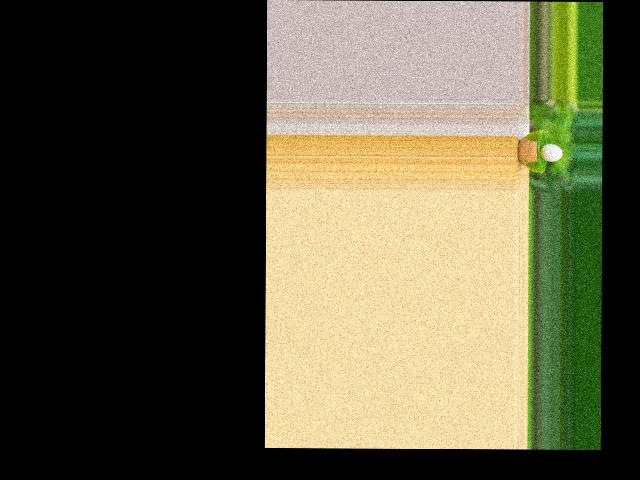egg: (539, 143, 562, 161)
